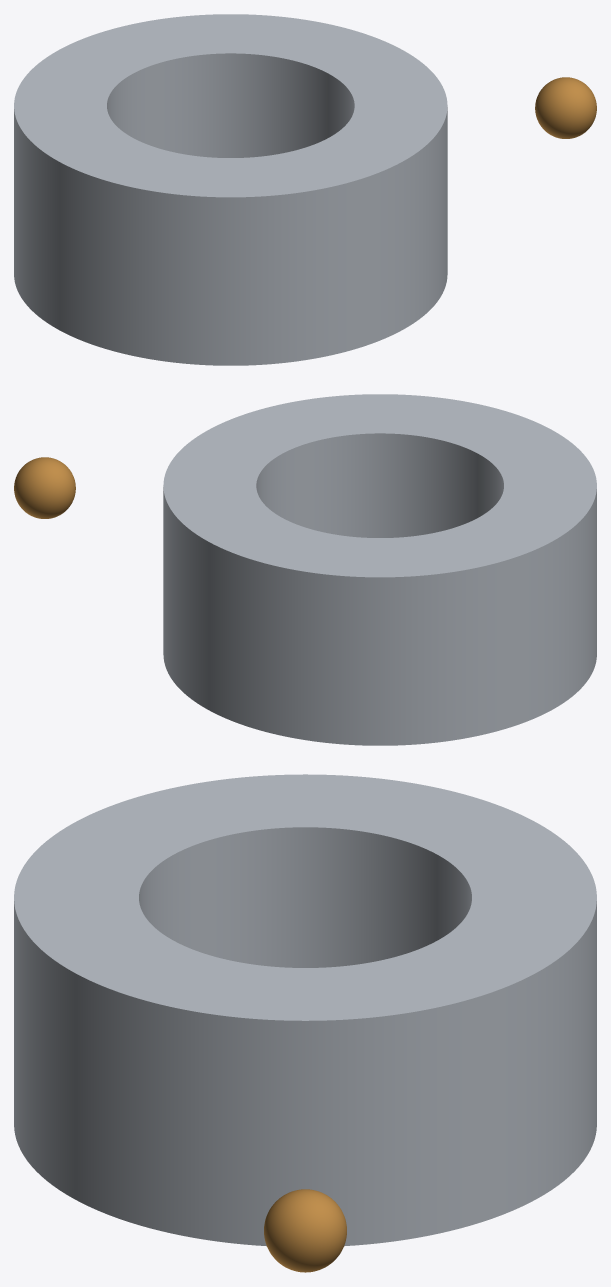
3 views of the same model, one above another, from view 1: azimuth 30°, elevation 25°; view 2: azimuth 150°, elevation 25°; view 3: azimuth 270°, elevation 25° (orthographic). The views are drawn at different scales.
Parts seen in each view (by area): view 1: bushing, preserved; view 2: bushing, preserved; view 3: bushing, preserved.
Part boxes in pixels (x1,y1,x2,y2): bushing: [14, 14, 447, 365]; preserved: [535, 77, 596, 138]; bushing: [163, 394, 596, 745]; preserved: [14, 457, 75, 518]; bushing: [14, 774, 596, 1246]; preserved: [264, 1189, 346, 1272].
Bounding box in the file's own units: 0.082 × 0.024 × 0.056.
